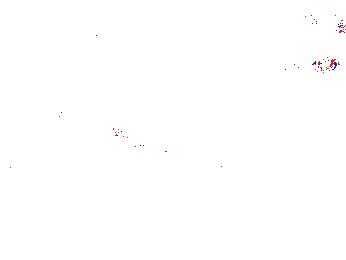X-ray fish: (245, 197, 292, 229)
red belly glassfish: (285, 56, 339, 73), (315, 17, 346, 38)
redtail glassfish: (109, 129, 178, 157)
